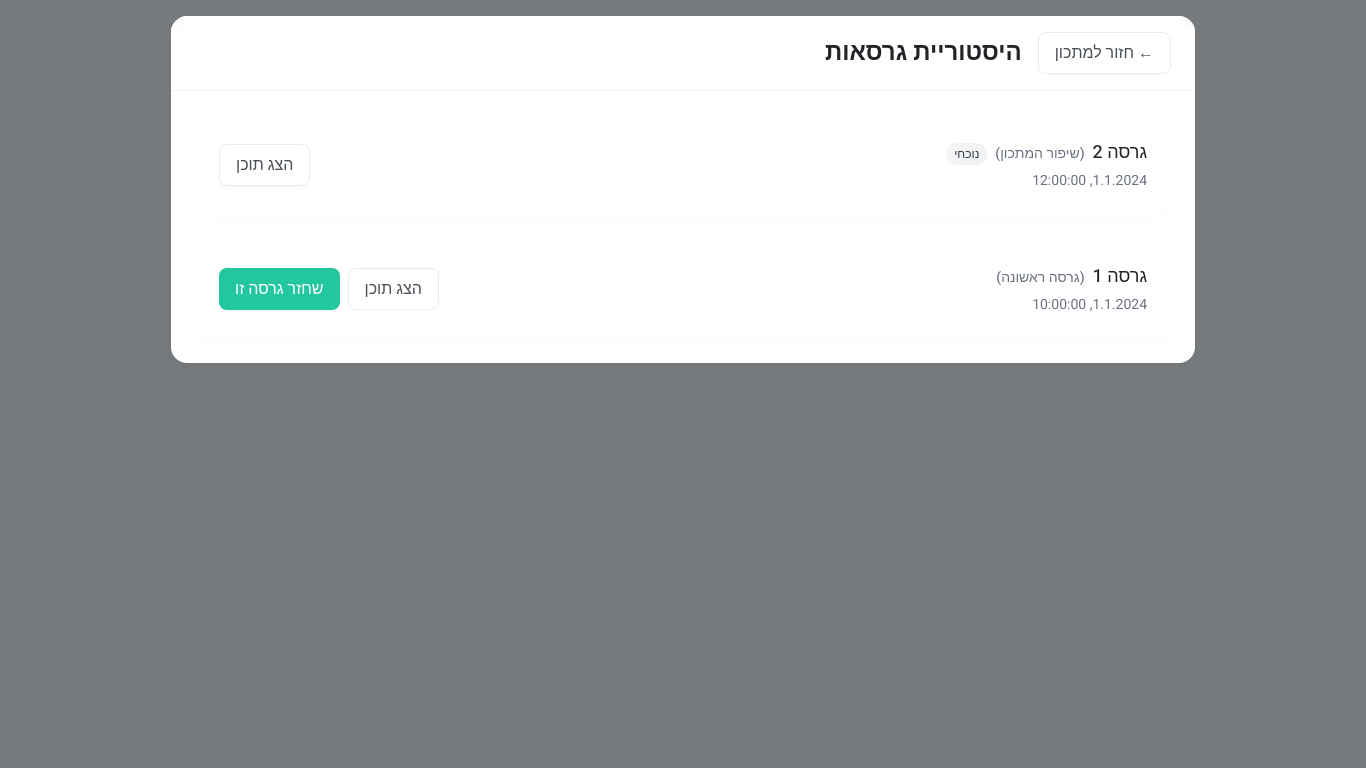
Scenario: VersionHistory Component › shows version content when expanded
expect the text "(גרסה ראשונה)" is shown: met, box 996,267 -> 1085,288
expect the text "גרסה 1(גרסה ראשונה) 1.1.2024, 10:00:00 הצג תוכן שחזר גרסה זו" is shown: met, box 195,239 -> 1171,339
Click the button "הצג תוכן" in the row of "גרסה ראשונה".
click(393, 289)  # box 348,268 -> 439,310
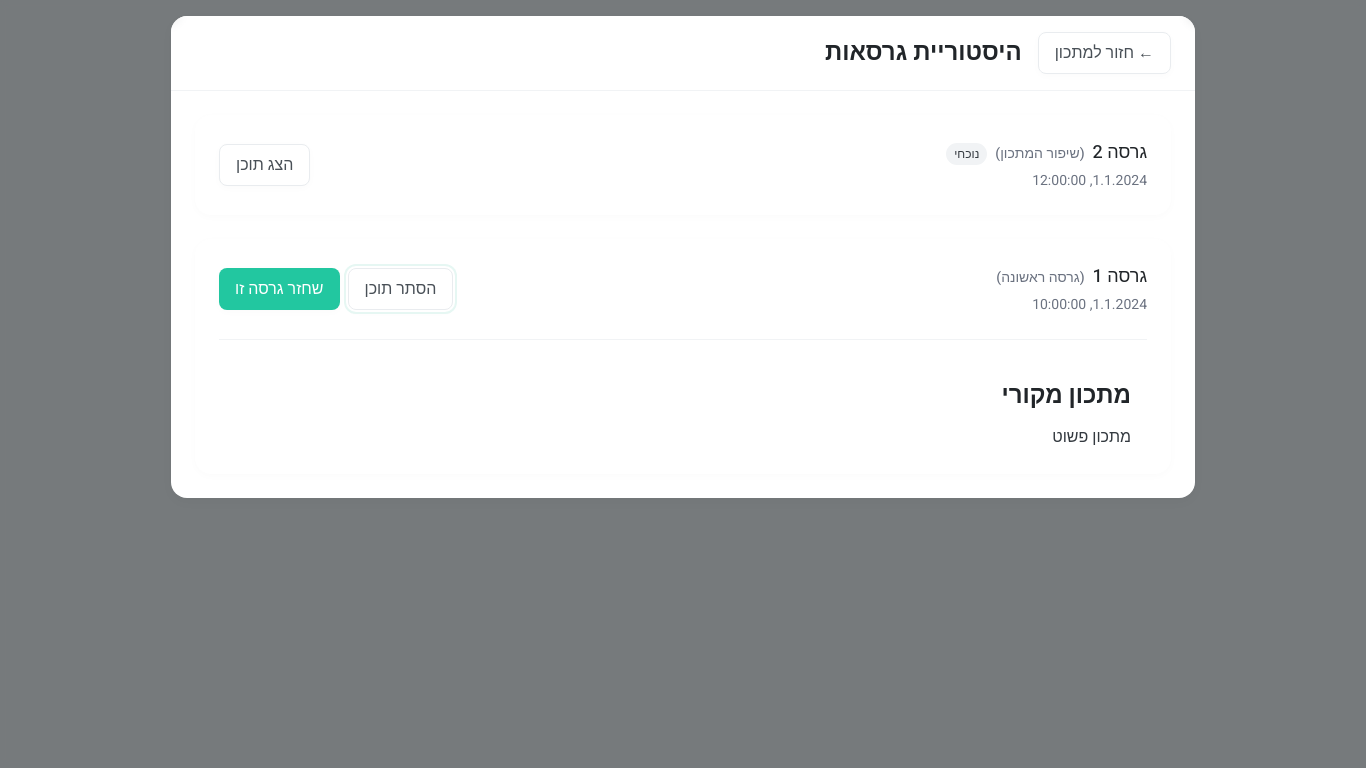
expect the heading "מתכון מקורי" is shown: met, box 1001,378 -> 1131,413
